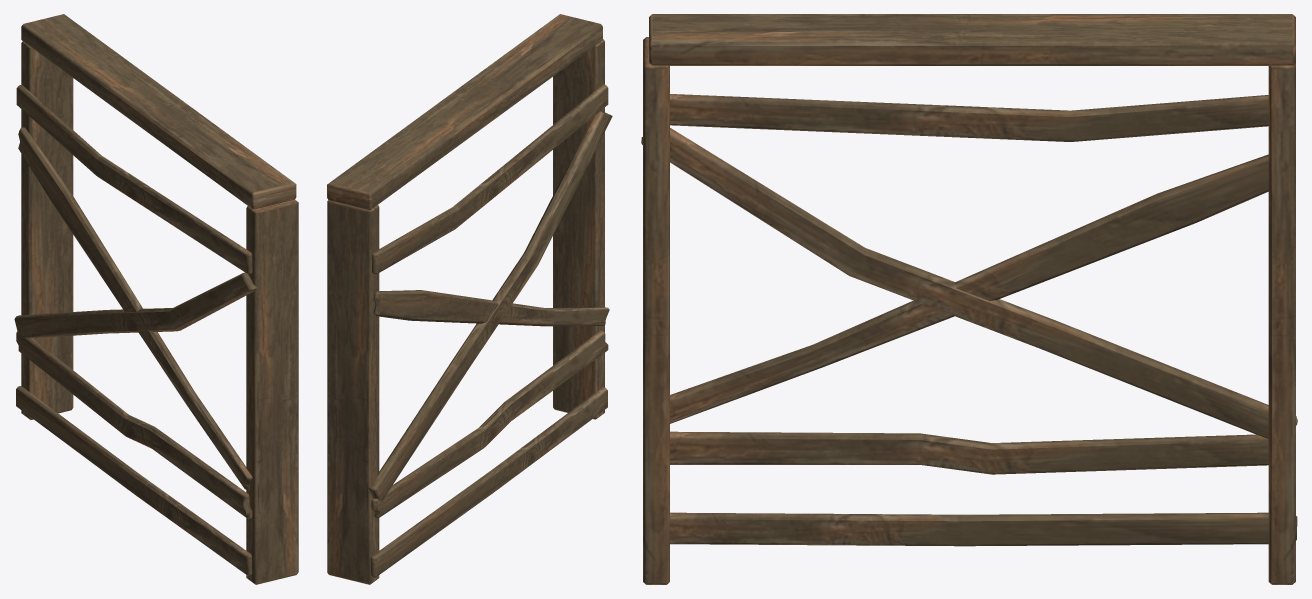
Rendered from SM_wood_frame_01.fbx.
3 renders of one model, left to right at view 1: azimuth 30°, elevation 25°; view 2: azimuth 150°, elevation 25°; view 3: azimuth 270°, elevation 25°, orthographic. The views are drawn at different scales.
Parts seen in each view (by area): view 1: SM_wood_frame_01_LOD0; view 2: SM_wood_frame_01_LOD0; view 3: SM_wood_frame_01_LOD0.
Part boxes in pixels (bbox=[...]): SM_wood_frame_01_LOD0: bbox=[14, 14, 298, 584]; SM_wood_frame_01_LOD0: bbox=[327, 14, 612, 584]; SM_wood_frame_01_LOD0: bbox=[641, 14, 1297, 584].
Bounding box in the file's own units: 50.28 × 404 × 369.
1 material, 1 textured.
